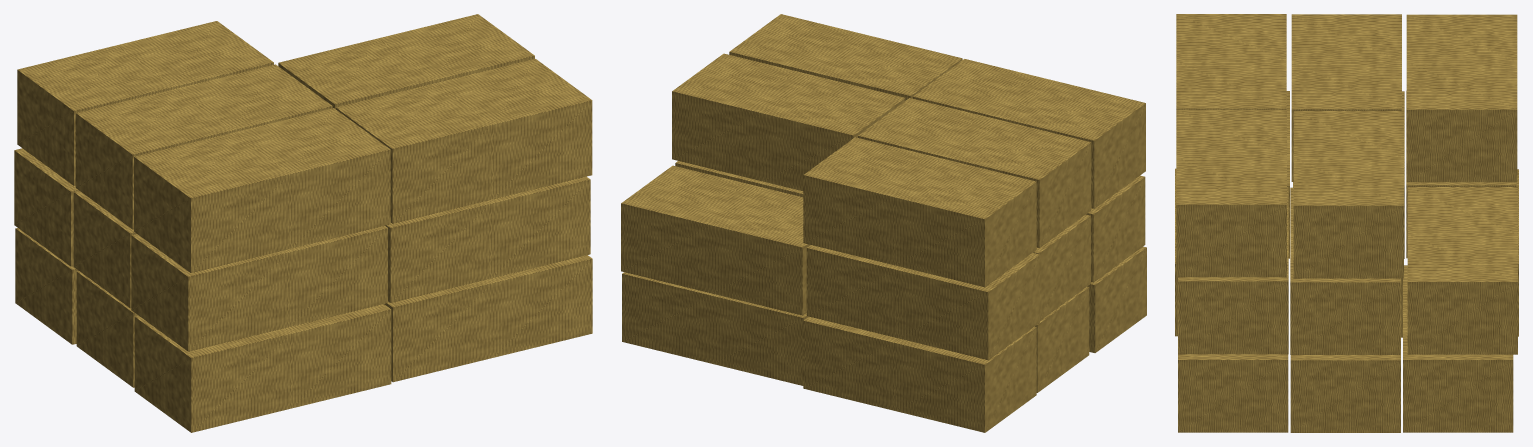
The model's file is strawStack_L1.glb.
3 renders of one model, left to right at view 1: azimuth 30°, elevation 25°; view 2: azimuth 150°, elevation 25°; view 3: azimuth 270°, elevation 25°, orthographic. The views are drawn at different scales.
Visible parts, largest first — view 1: stack:straw; view 2: stack:straw; view 3: stack:straw.
Part boxes in pixels (x1,y1,x2,y2): stack:straw: (14,14,592,432); stack:straw: (621,14,1146,432); stack:straw: (1175,14,1518,432).
Size of the model in its own units: 4.8 by 2.65 by 3.62.
Materials: 1 (1 with a texture image).
